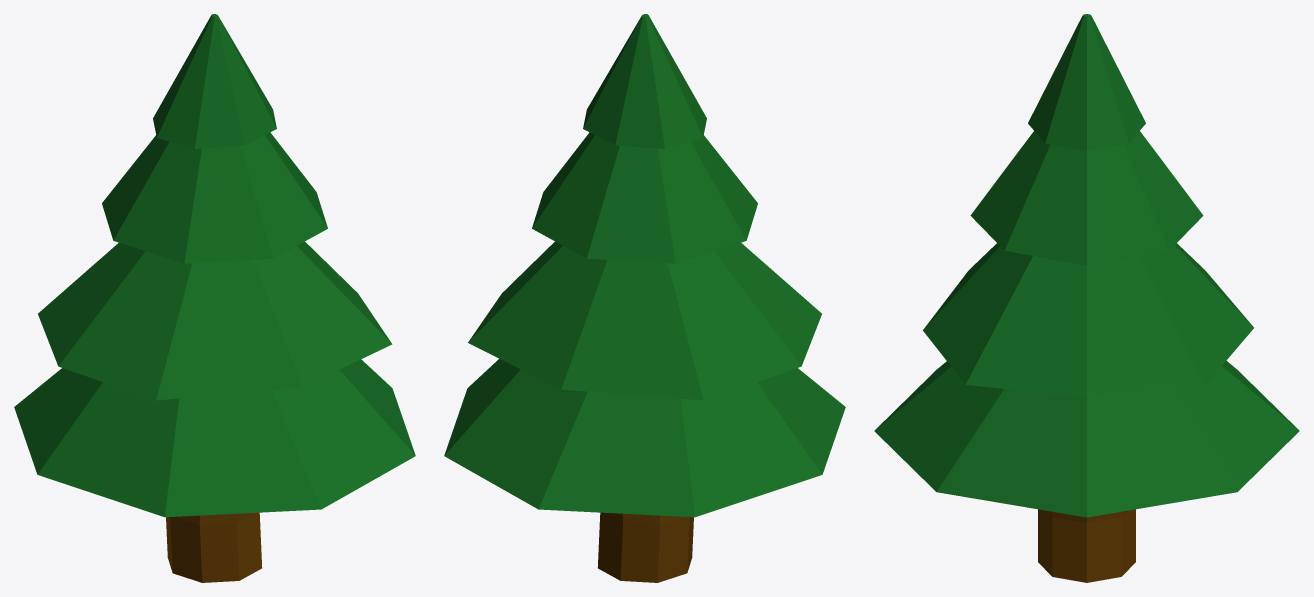
File: Tanne.fbx
3 renders of one model, left to right at view 1: azimuth 30°, elevation 25°; view 2: azimuth 150°, elevation 25°; view 3: azimuth 270°, elevation 25°, orthographic.
Parts seen in each view (by area): view 1: Cylinder; view 2: Cylinder; view 3: Cylinder.
Part boxes in pixels (x1=…): Cylinder: x1=14, y1=14, x2=415, y2=582; Cylinder: x1=444, y1=14, x2=845, y2=582; Cylinder: x1=874, y1=14, x2=1299, y2=582.
Size of the model in its own units: 839 by 1236 by 872.
